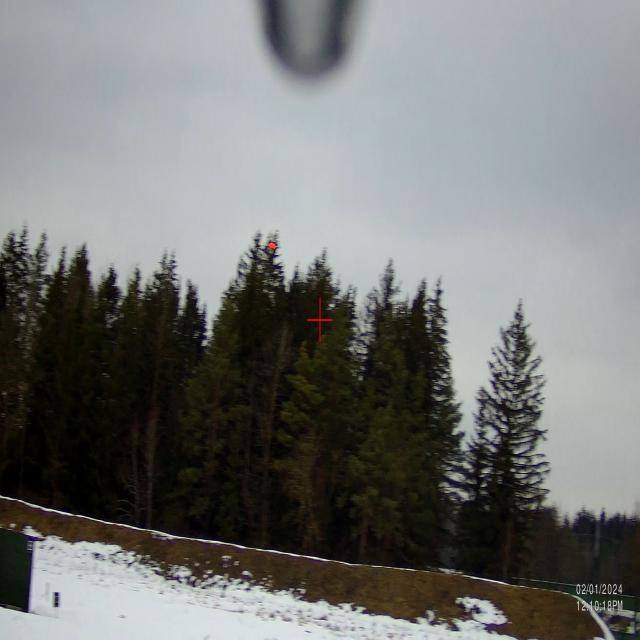entire: (266, 238, 278, 260)
